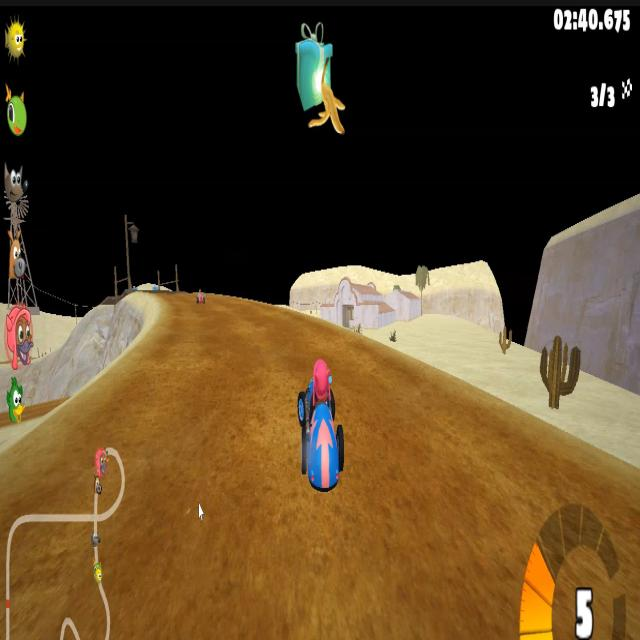player_kart: (284, 348, 354, 524)
track: (138, 342, 287, 638), (288, 522, 637, 640), (2, 458, 136, 636), (358, 451, 630, 517), (358, 361, 414, 450), (417, 376, 478, 454), (166, 316, 324, 337), (41, 422, 137, 452), (478, 392, 516, 444), (87, 390, 136, 417), (520, 416, 566, 443), (233, 297, 277, 313), (111, 364, 139, 384), (148, 286, 186, 297), (159, 296, 190, 308), (330, 330, 356, 340), (207, 298, 230, 306)
